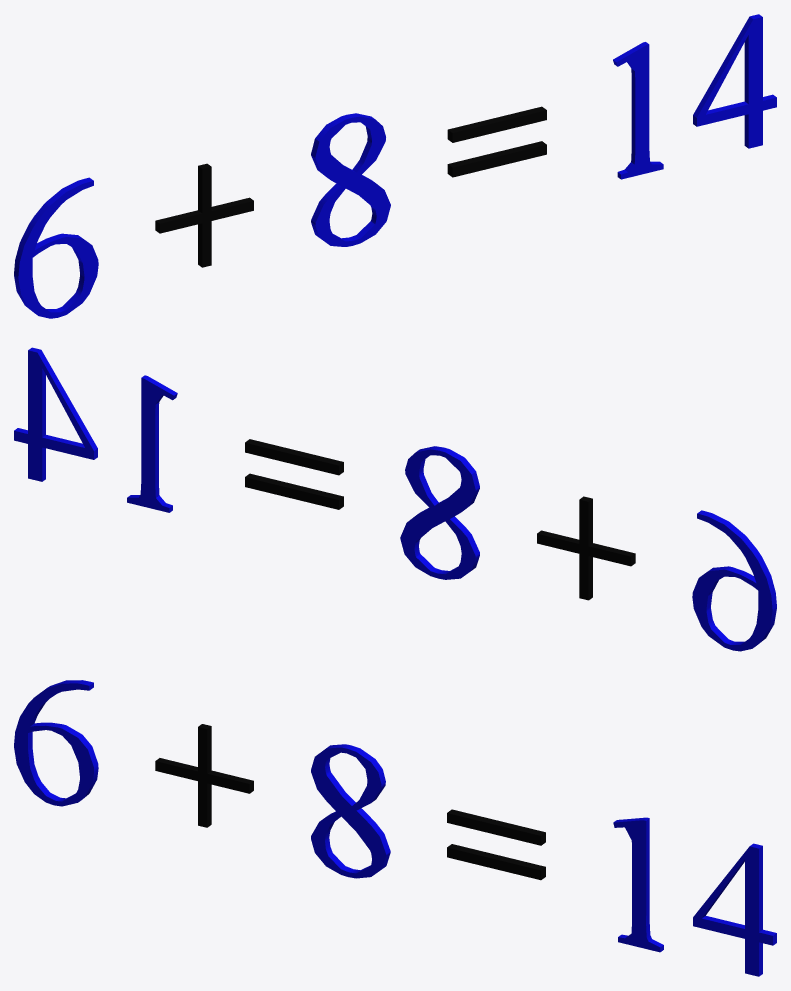
Rendered from carbon14Math.fbx.
3 views of the same model, one above another, from view 1: azimuth 30°, elevation 25°; view 2: azimuth 150°, elevation 25°; view 3: azimuth 330°, elevation 25° (orthographic).
Visible parts, largest first — view 1: Trim_Char_x_3_1, Trim_Char_x_1_1, Trim_Char_x_6_1, Trim_Char_x_4_1, Trim_Char_x_5_1, Trim_Char_x_2_1; view 2: Trim_Char_x_3_1, Trim_Char_x_1_1, Trim_Char_x_6_1, Trim_Char_x_4_1, Trim_Char_x_5_1, Trim_Char_x_2_1; view 3: Trim_Char_x_3_1, Trim_Char_x_1_1, Trim_Char_x_6_1, Trim_Char_x_4_1, Trim_Char_x_5_1, Trim_Char_x_2_1.
Part boxes in pixels (box(x1,y1,x2,y2)): Trim_Char_x_3_1: box(311, 113, 390, 246); Trim_Char_x_1_1: box(14, 177, 98, 318); Trim_Char_x_6_1: box(693, 14, 776, 148); Trim_Char_x_4_1: box(447, 106, 546, 177); Trim_Char_x_5_1: box(613, 42, 663, 179); Trim_Char_x_2_1: box(155, 163, 253, 267); Trim_Char_x_3_1: box(400, 446, 479, 579); Trim_Char_x_1_1: box(692, 510, 776, 651); Trim_Char_x_6_1: box(14, 347, 97, 481); Trim_Char_x_4_1: box(245, 439, 343, 509); Trim_Char_x_5_1: box(127, 375, 177, 512); Trim_Char_x_2_1: box(537, 496, 635, 600); Trim_Char_x_3_1: box(311, 744, 390, 878); Trim_Char_x_1_1: box(14, 680, 98, 806); Trim_Char_x_6_1: box(693, 843, 776, 976); Trim_Char_x_4_1: box(447, 809, 545, 880); Trim_Char_x_5_1: box(613, 817, 663, 952); Trim_Char_x_2_1: box(155, 724, 253, 827).
Bounding box in the file's own units: 0.161 × 0.026 × 0.00182.
